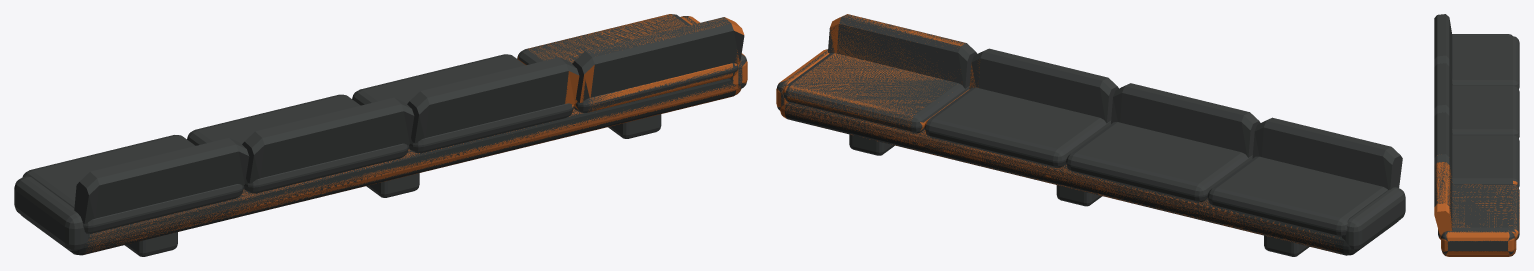
File: terminal-seating.glb
The picture shows the model from 3 angles, left to right: view 1: azimuth 30°, elevation 25°; view 2: azimuth 150°, elevation 25°; view 3: azimuth 270°, elevation 25°; orthographic projection. The views are drawn at different scales.
Parts seen in each view (by area): view 1: HallSeatCharcoal, HallSeatOrange; view 2: HallSeatCharcoal, HallSeatOrange; view 3: HallSeatCharcoal, HallSeatOrange.
Boxes of the visible parts, box(x1,y1,x2,y2) form: HallSeatCharcoal: box(14, 14, 746, 256); HallSeatOrange: box(86, 14, 747, 252); HallSeatCharcoal: box(777, 14, 1405, 256); HallSeatOrange: box(776, 14, 1341, 253); HallSeatCharcoal: box(1434, 14, 1519, 255); HallSeatOrange: box(1434, 155, 1519, 256).
Bounding box in the file's own units: 5.78 × 0.86 × 1.03.
